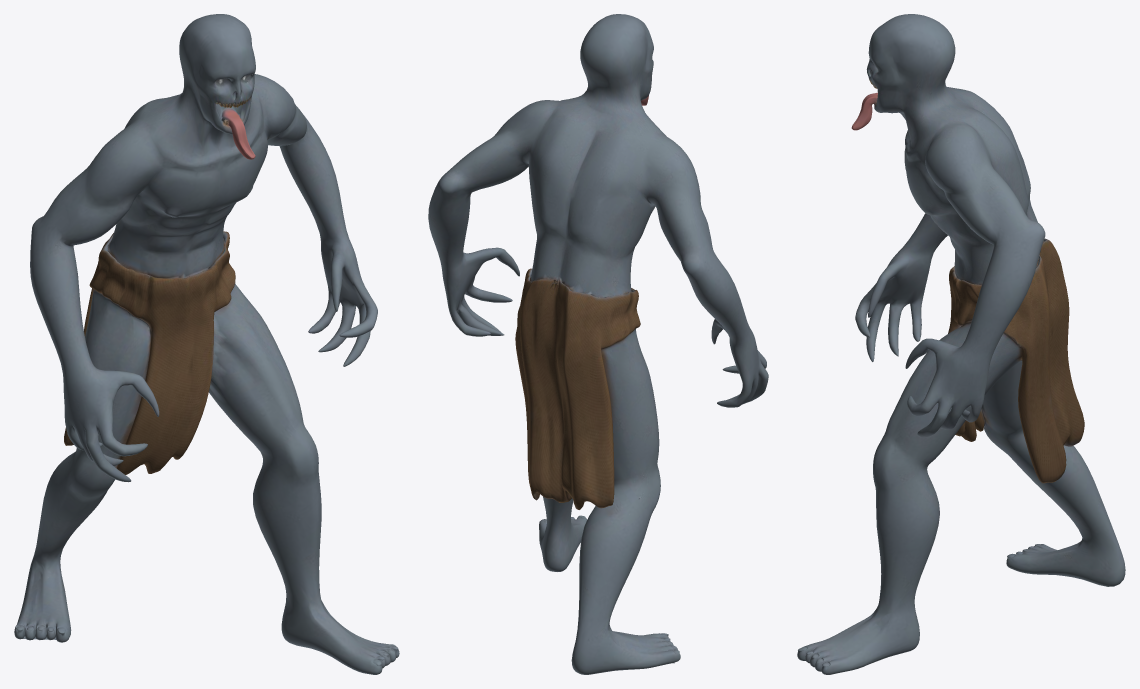
Rendered from MZ4250 - Ghast.glb.
3 renders of one model, left to right at view 1: azimuth 30°, elevation 25°; view 2: azimuth 150°, elevation 25°; view 3: azimuth 270°, elevation 25°, orthographic. The views are drawn at different scales.
Visible parts, largest first — view 1: default; view 2: default; view 3: default.
Part boxes in pixels (box(x1,y1,x2,y2)): default: box(14, 14, 399, 674); default: box(428, 14, 768, 674); default: box(797, 14, 1125, 674).
Size of the model in its own units: 0.5807 by 1.1 by 0.5463.
1 material, 1 textured.
